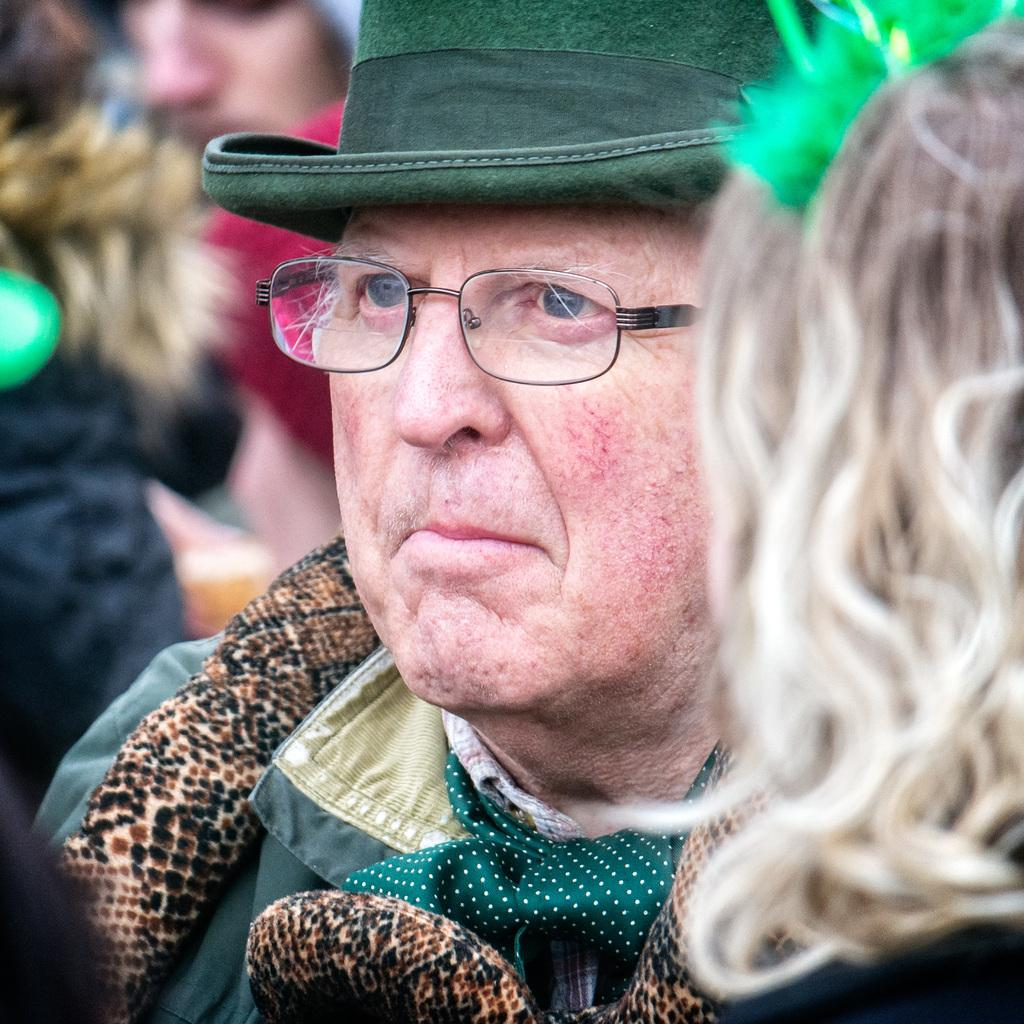Hat: (194, 0, 822, 249)
